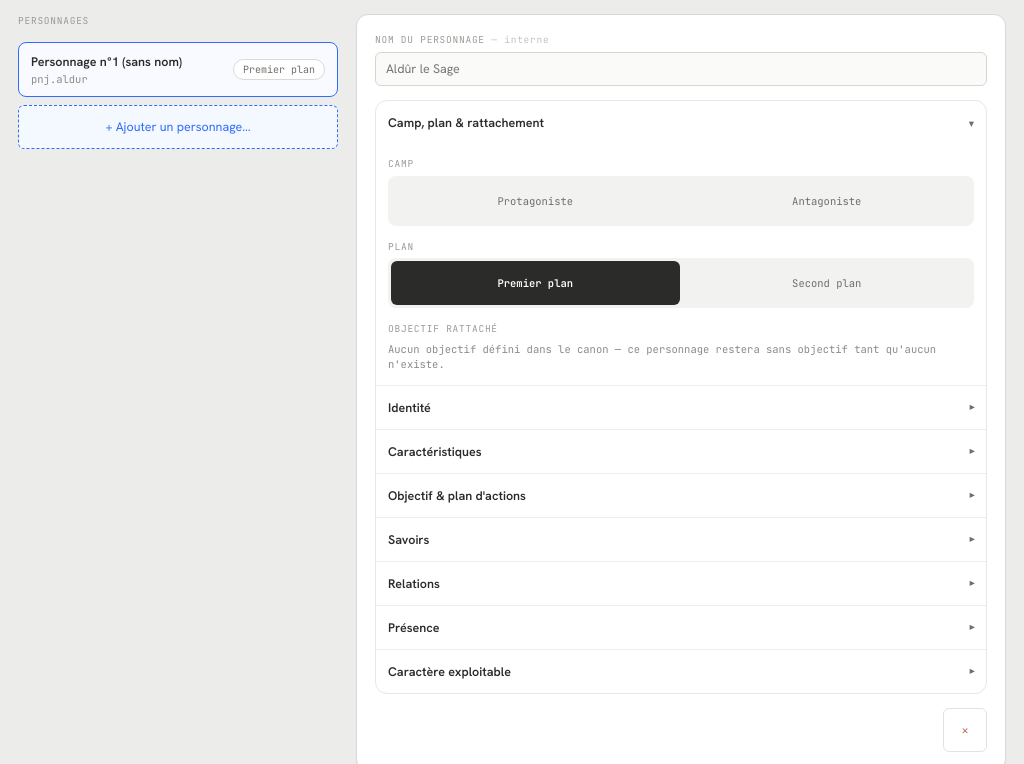
Test: FichePersonnage - bloc Caractere › retirer une replique la supprime du document et fait revenir la CTA sous le plafond
What coordinates should you click on to do the following:
click the button "Caractère exploitable ▾"
I would click on:
 (449, 671)
Its box is [376, 649, 986, 693].
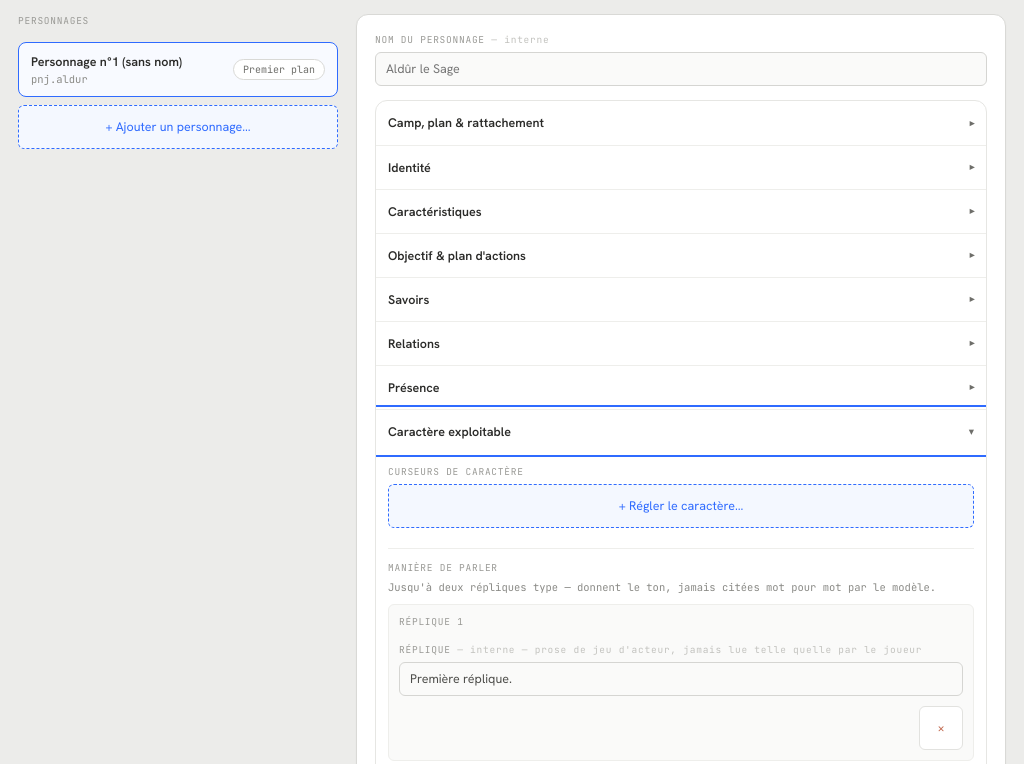
What coordinates should you click on to do the following:
click the button named "Retirer la réplique n°1"
I would click on:
 (941, 728)
Its box is [919, 706, 963, 750].
(page scrolled)
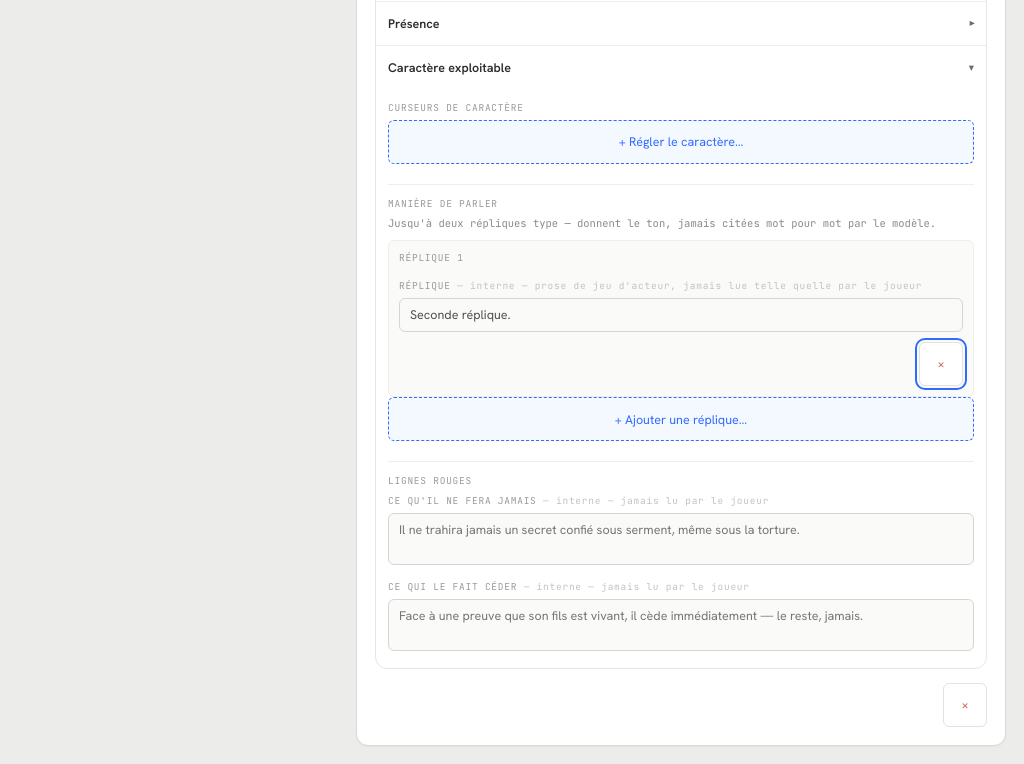
Expected: the field showing "Première réplique." is not shown
Expected: the button "+ Ajouter une réplique…" is shown, [388, 397, 974, 441]
